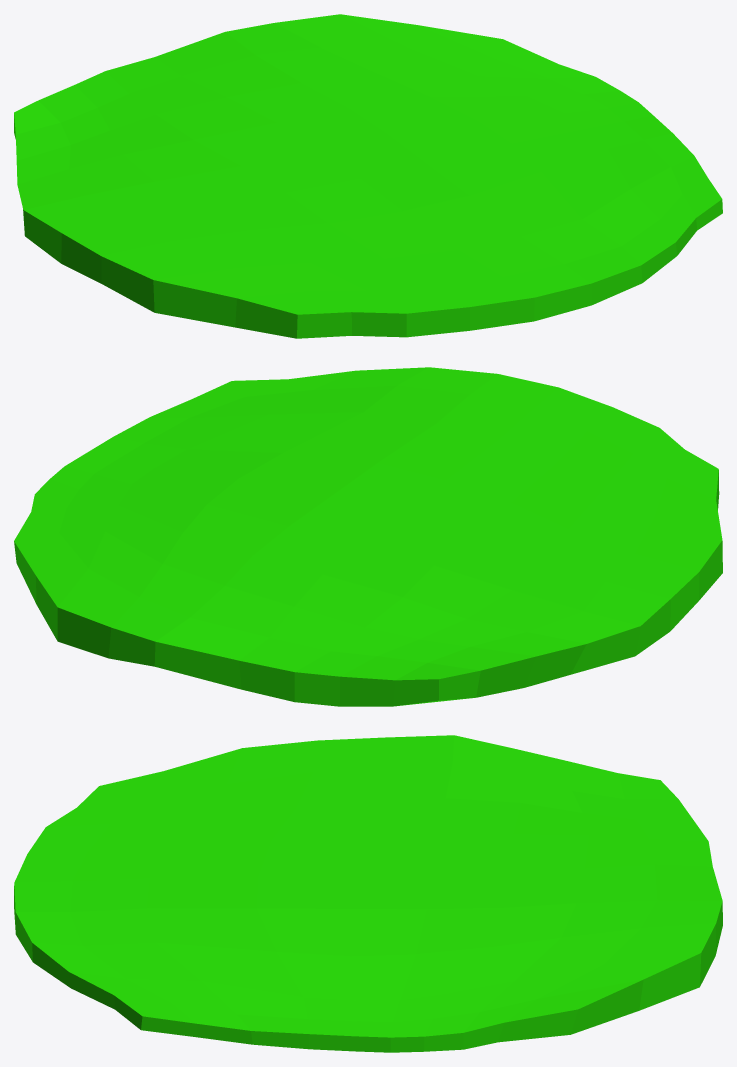
File: Lettuce.fbx
3 views of the same model, one above another, from view 1: azimuth 30°, elevation 25°; view 2: azimuth 150°, elevation 25°; view 3: azimuth 270°, elevation 25° (orthographic). The views are drawn at different scales.
Parts seen in each view (by area): view 1: Lettuce; view 2: Lettuce; view 3: Lettuce.
Part boxes in pixels (box(x1,y1,x2,y2)): Lettuce: box(14, 14, 722, 338); Lettuce: box(14, 367, 722, 706); Lettuce: box(14, 735, 722, 1052).
Size of the model in its own units: 44.67 by 2.53 by 46.16.
